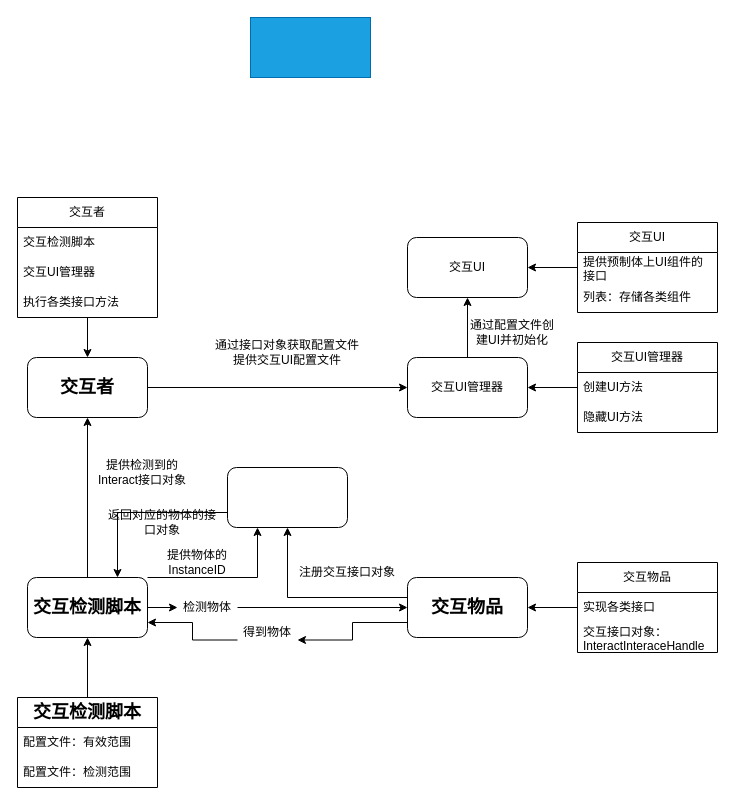
The diagram is 735 pixels wide and 805 high, and some of its shapes have lost their labels. Each missing label, with the centre of its shape:
"交互框架" belongs at point (310, 47).
"交互管理器（单例）" belongs at point (287, 497).
